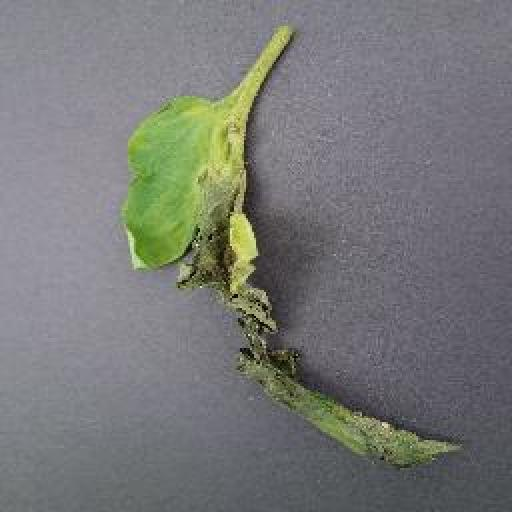Late Blight: (126, 96, 466, 471)
